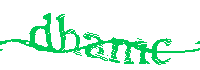a: (82, 32, 107, 61)
c: (151, 36, 174, 67)
d: (28, 12, 54, 53)
h: (56, 14, 82, 56)
m: (110, 36, 148, 66)
